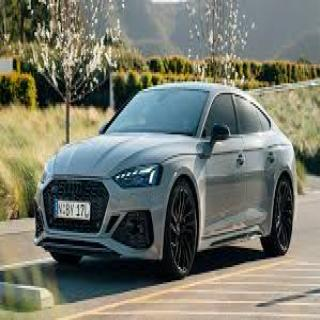Normal_vehicle: (34, 83, 299, 280)
